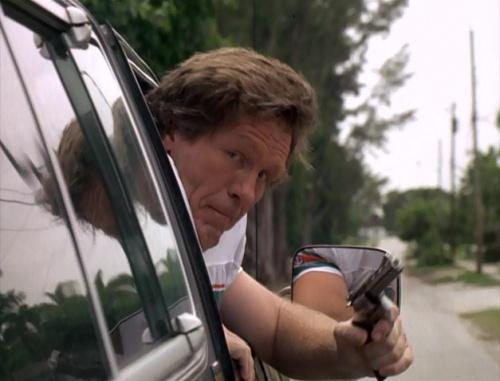Gun: (346, 254, 405, 334)
